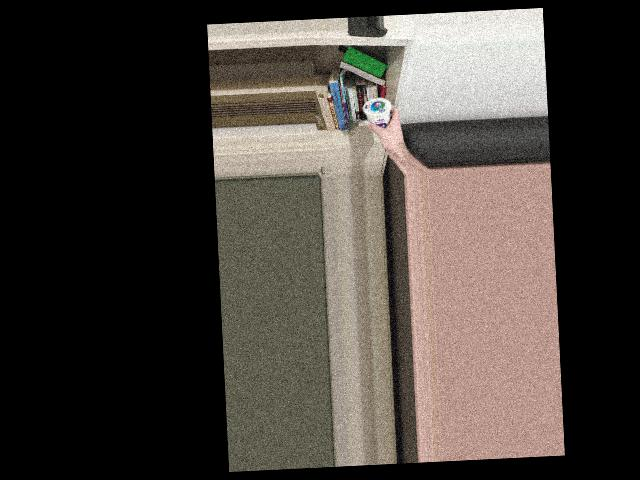cotage: (362, 95, 395, 133)
